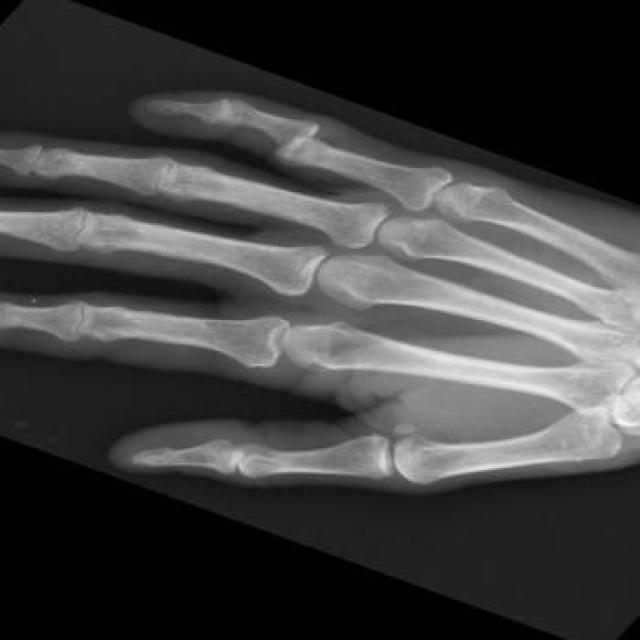Fracture: (264, 119, 338, 165)
